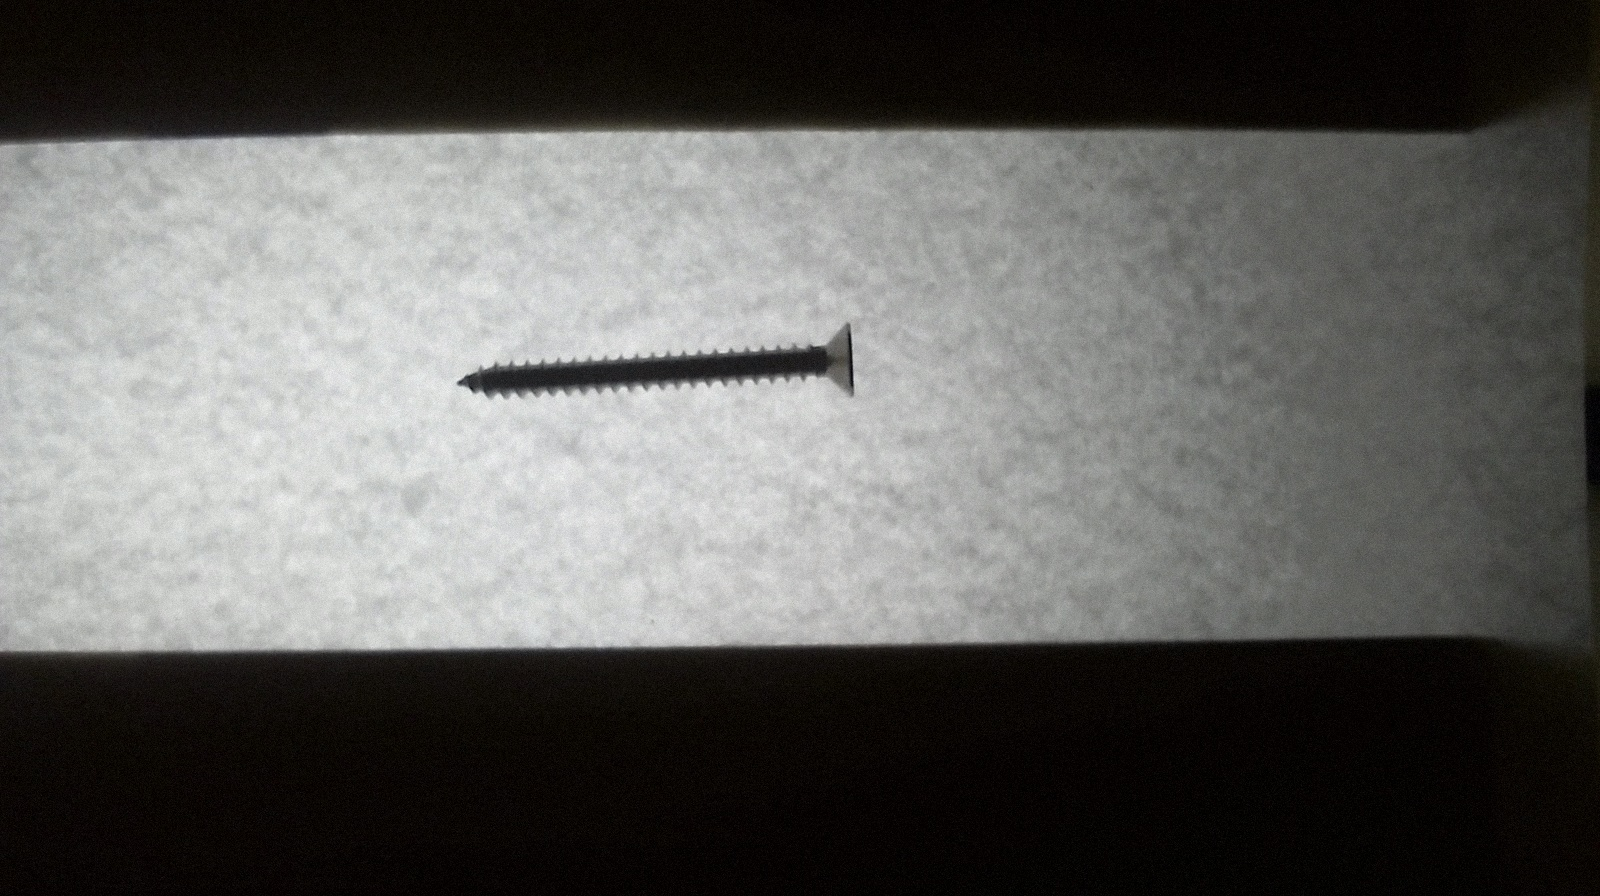S002: (447, 316, 868, 413)
